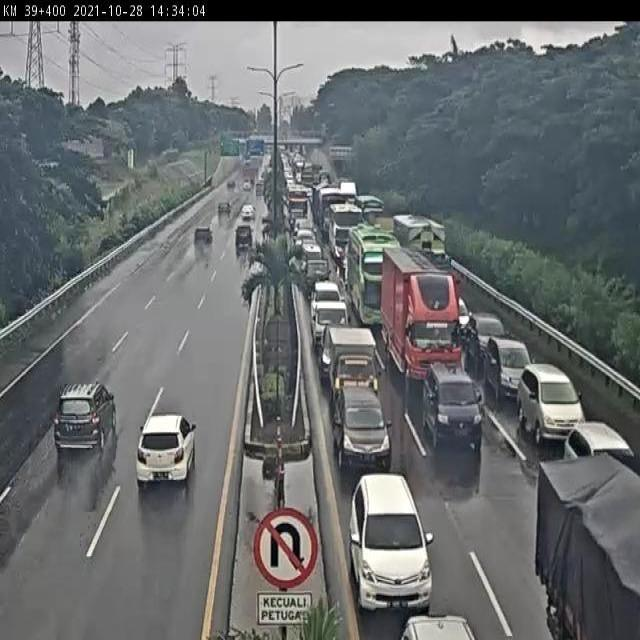bus-l-: (348, 227, 401, 328), (328, 202, 368, 258)
car: (349, 475, 438, 616), (419, 364, 481, 455), (53, 380, 119, 460), (136, 412, 196, 493), (520, 364, 584, 439), (322, 328, 384, 405), (327, 382, 389, 458), (488, 339, 533, 401), (309, 296, 350, 352), (466, 313, 508, 360), (298, 258, 330, 298), (447, 293, 470, 335), (296, 238, 320, 266), (312, 278, 340, 302), (294, 222, 312, 242)
truck-l-: (380, 247, 459, 393), (392, 212, 448, 288)
